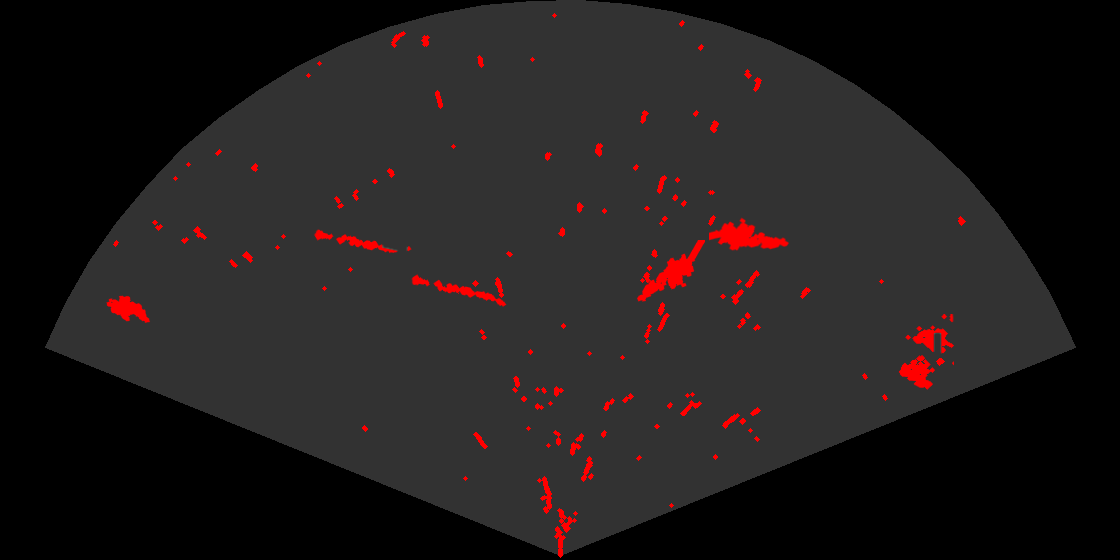AUV: (105, 294, 152, 325)
cage: (897, 314, 954, 391)
chain: (409, 273, 508, 308), (312, 228, 413, 255)
frogman: (635, 240, 705, 303), (709, 216, 790, 252)
